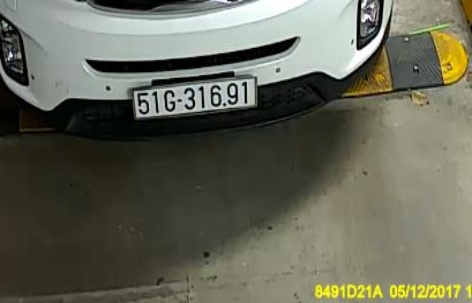plate: (124, 72, 269, 115)
